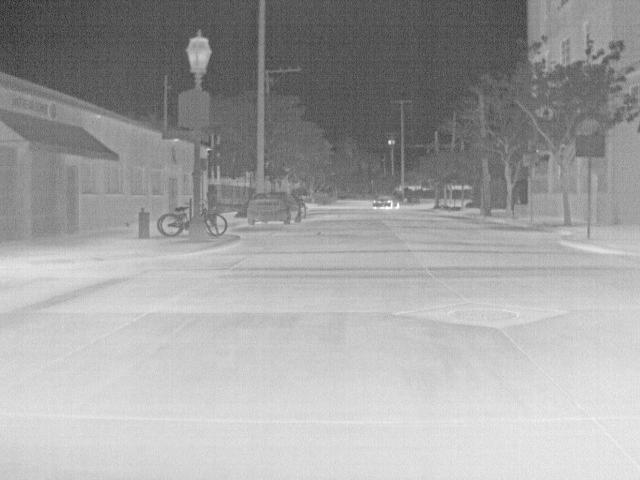car: (246, 191, 302, 225), (372, 194, 398, 208), (299, 200, 307, 219)
